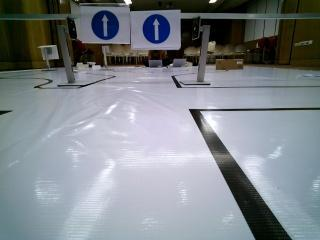straight: (130, 9, 179, 46), (83, 6, 130, 43)
